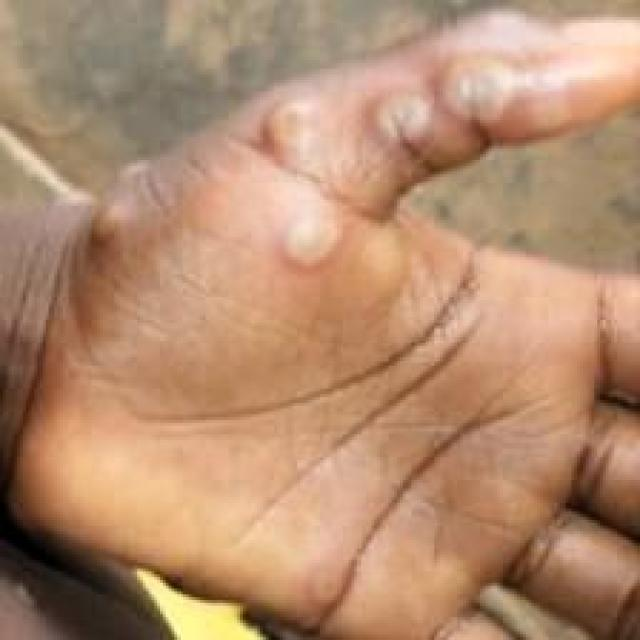monkeypox: (63, 0, 628, 586)
